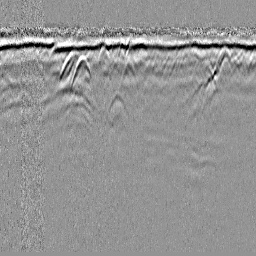cavity: (118, 58, 138, 91)
